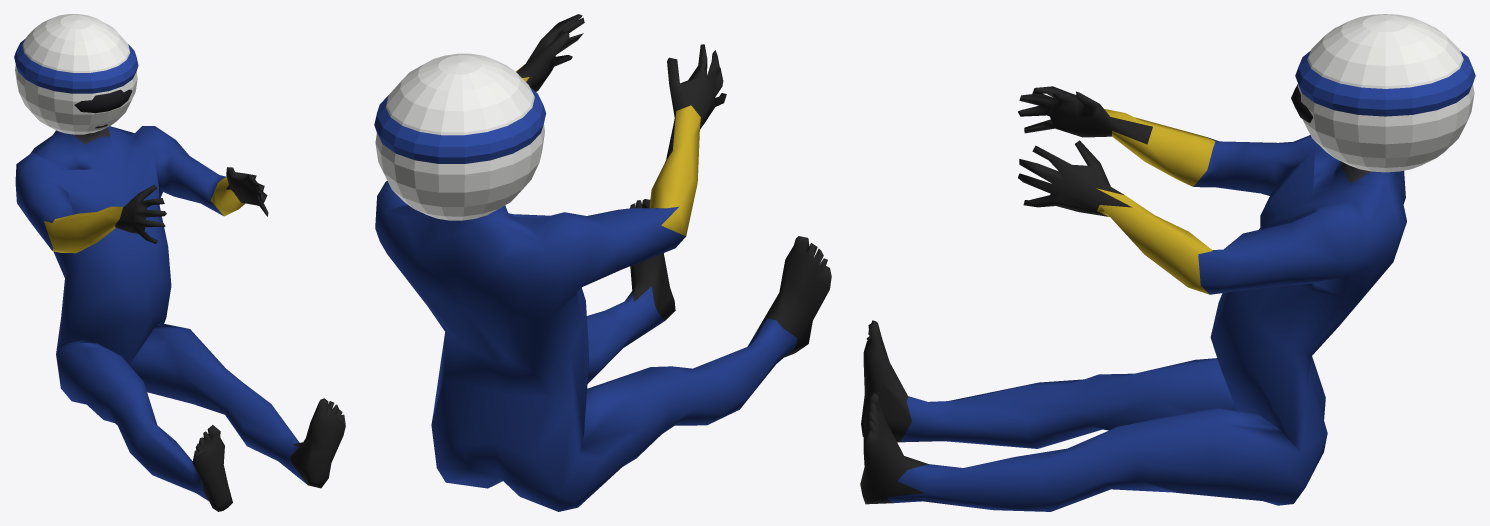
File: driver_12.glb
The picture shows the model from 3 angles, left to right: view 1: azimuth 30°, elevation 25°; view 2: azimuth 150°, elevation 25°; view 3: azimuth 270°, elevation 25°; orthographic projection. The views are drawn at different scales.
Parts seen in each view (by area): view 1: driver_12 people, driver_12; view 2: driver_12 people, driver_12; view 3: driver_12 people, driver_12.
Part boxes in pixels (box(x1,y1,x2,y2)): driver_12 people: box(15, 124, 345, 511); driver_12: box(14, 14, 138, 134); driver_12 people: box(375, 14, 831, 511); driver_12: box(374, 53, 546, 220); driver_12 people: box(860, 86, 1406, 511); driver_12: box(1291, 14, 1475, 172).
Bounding box in the file's own units: 0.5243 × 0.9272 × 1.12.
